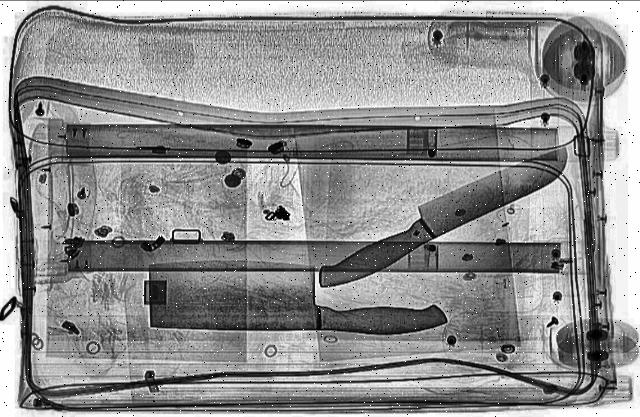Knife: (300, 138, 588, 294), (144, 259, 456, 335)
